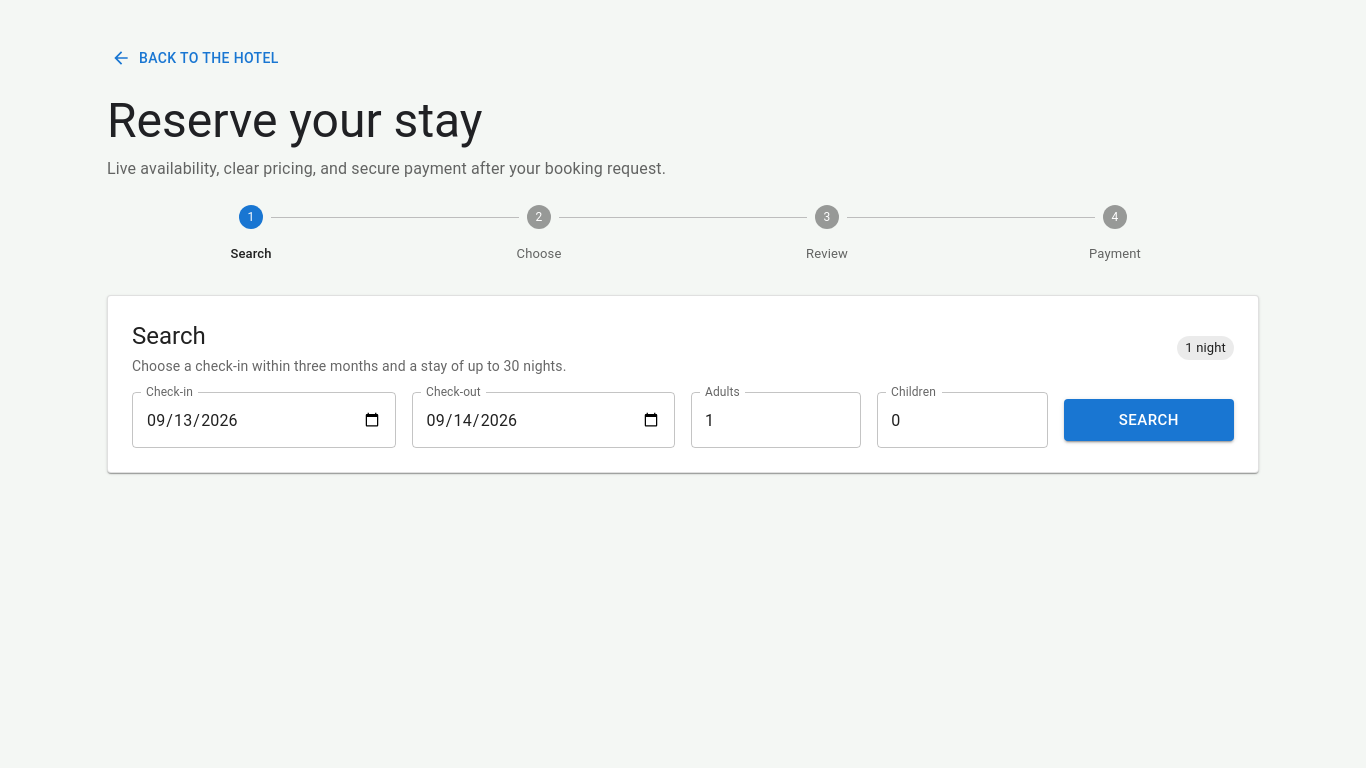
Test: PortalBookingPage anonymous checkout › lets a visitor with no account search instead of bouncing to sign-in
The image size is (1366, 768).
What coordinates should you click on to do the following:
click the button "Search"
I would click on:
 (1149, 420)
Its box is [1064,399,1234,441].
(page scrolled)
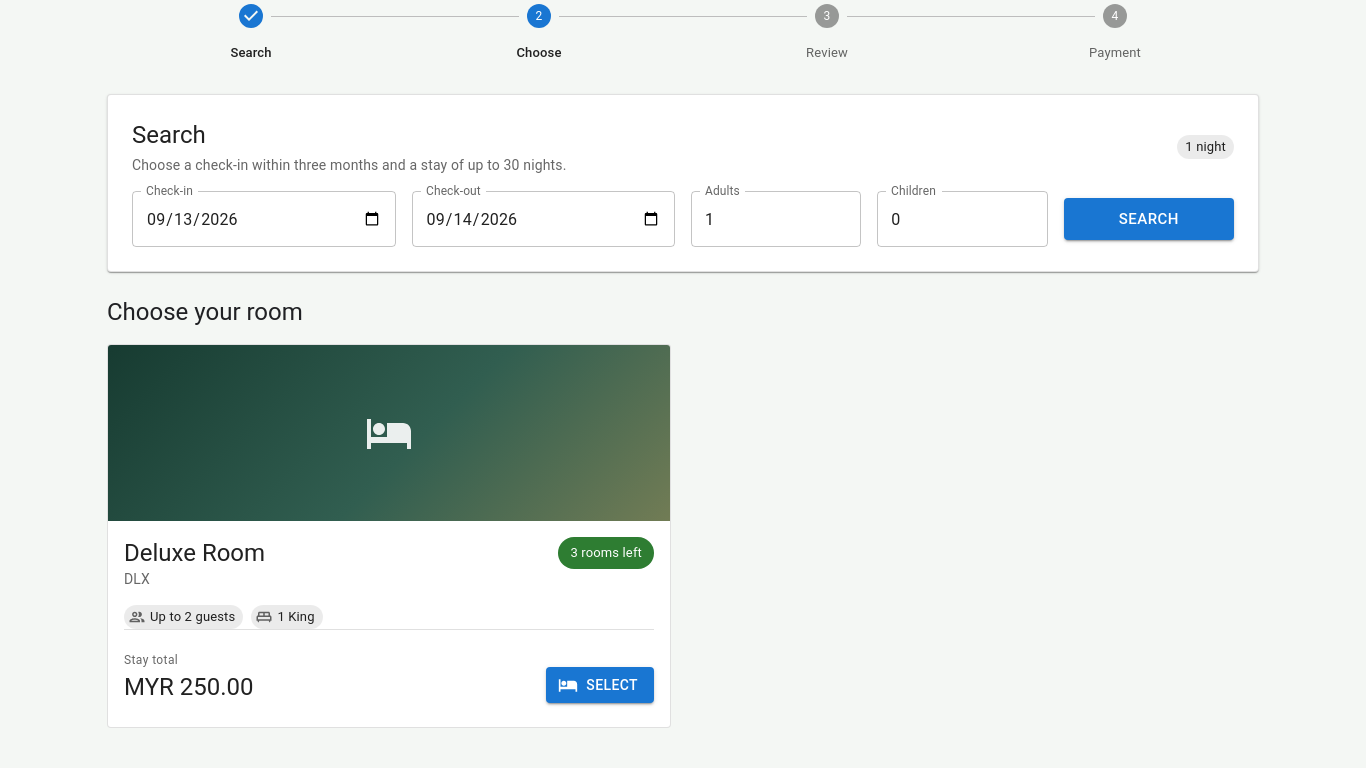
expect the button "Select" is shown: met, box [546,667,654,703]
